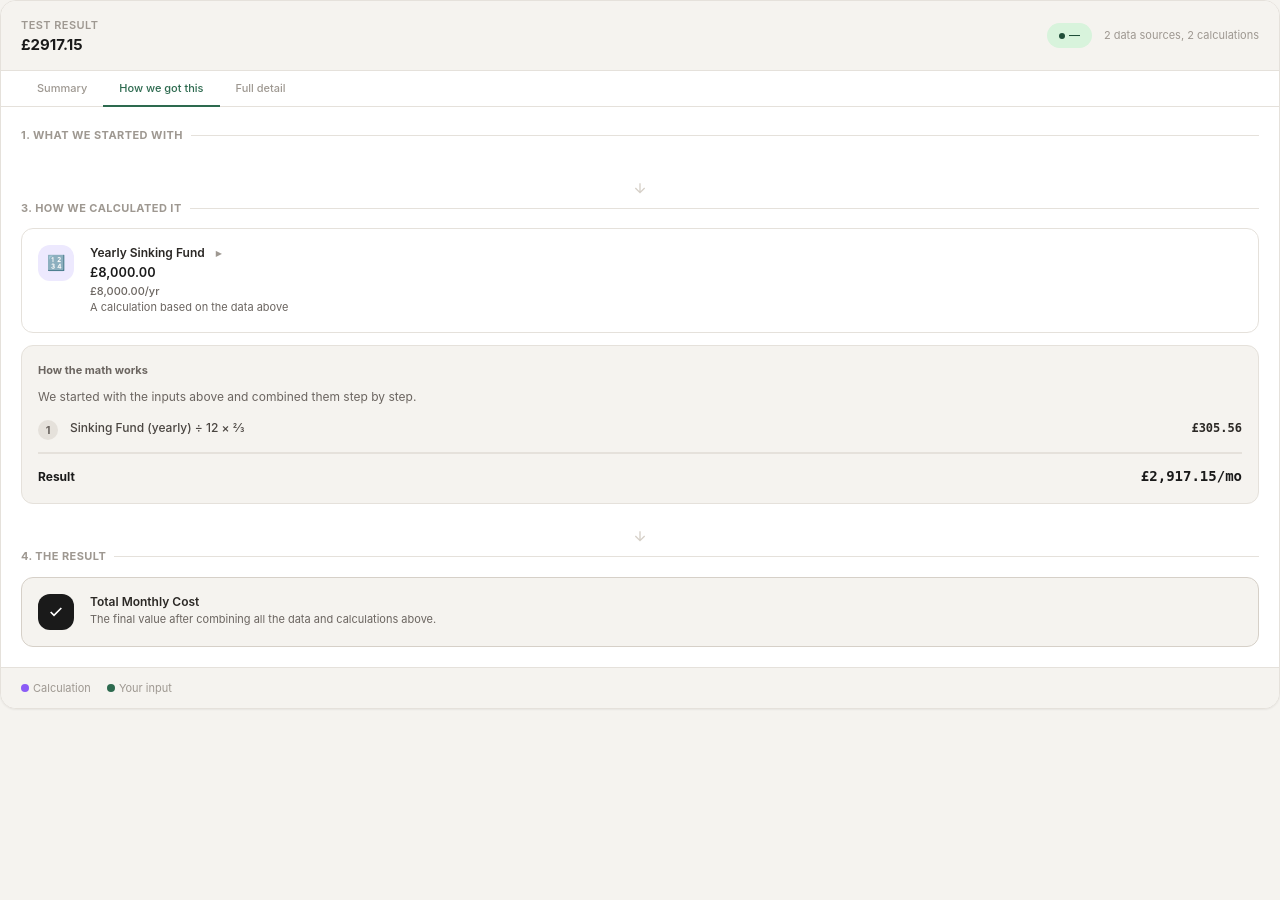
Test: ProvenanceView — nested calc node sources in story view › shows the sources of a nested calc node when the calc has its own inputs
Check: the text "Property Price" is not shown
Step 1. Click the element with class "flow-card__body--clickable" → coordinates (149, 253), box [90,245,288,314]
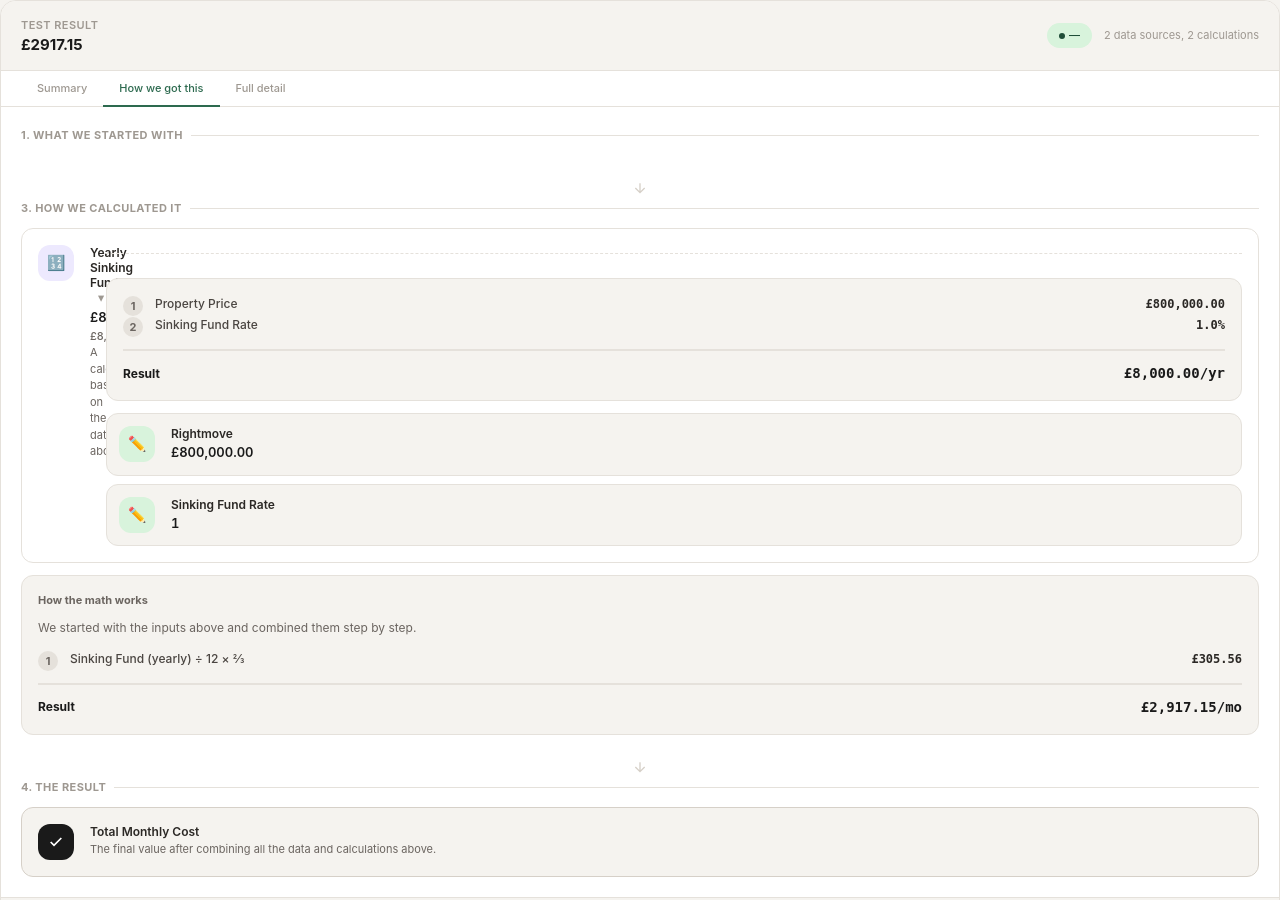
Check: the text "Property Price" is shown, box [155,295,238,313]
Check: the text "Sinking Fund Rate" is shown, box [155,316,258,334]
Check: the text "Rightmove" is shown, box [171,426,233,441]
